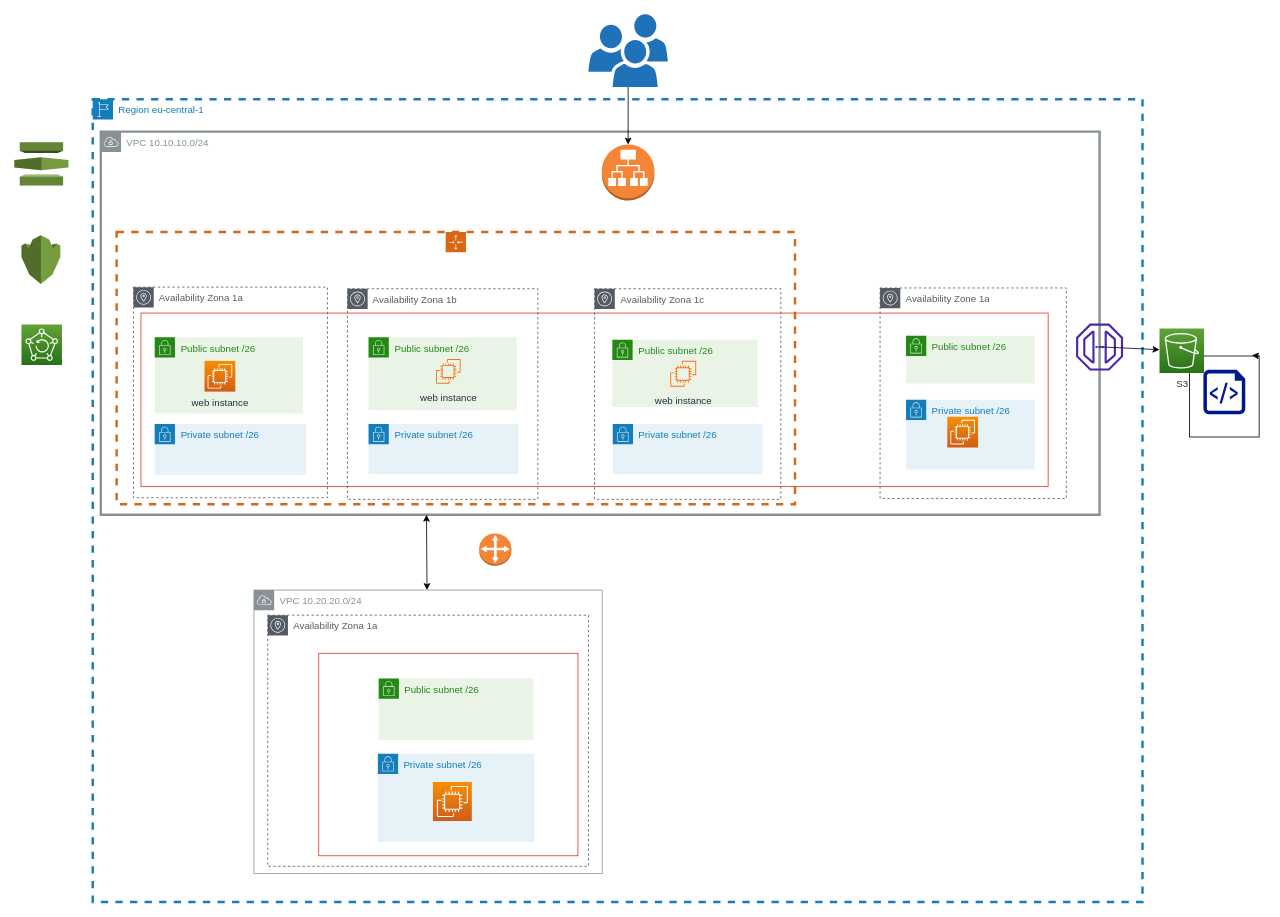
Image size: 1280x917. Some labels were removed from this diagram. Here are the shapes that lost their labels. From the top down, the box of each, then its label:
(14, 141, 68, 185): ACM
(21, 234, 60, 284): KMS
(21, 324, 62, 365): Backup
(1076, 323, 1123, 370): S3 Endpoint
(115, 230, 796, 505): Autoscaling group with Launch Template
(140, 312, 1048, 486): Security Group - Web Server
(1203, 369, 1245, 414): PDS
(946, 416, 978, 448): web server
(478, 533, 512, 566): VPC Peering Connection
(318, 652, 578, 856): Security Group - Admin Server
(432, 781, 472, 821): Admin Server
